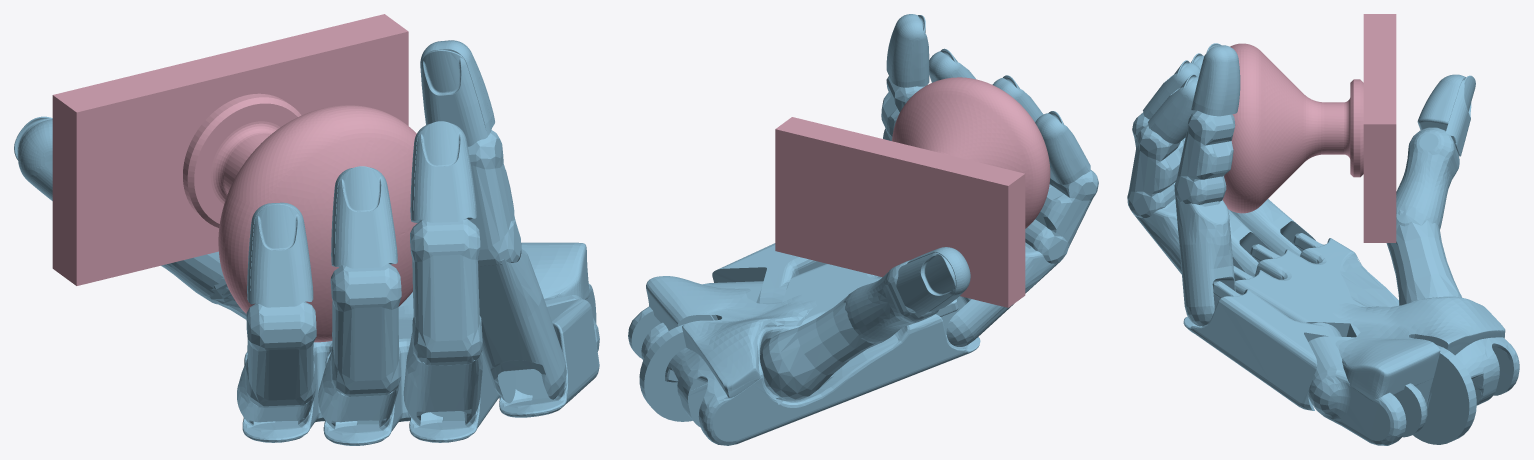
Rendered from ShadowHand_contactdb+door_knob_mesh.glb.
3 renders of one model, left to right at view 1: azimuth 30°, elevation 25°; view 2: azimuth 150°, elevation 25°; view 3: azimuth 270°, elevation 25°, orthographic. The views are drawn at different scales.
Parts seen in each view (by area): view 1: world; view 2: world; view 3: world.
Boxes of the visible parts, <box> form: world: <box>14,14,599,445</box>; world: <box>628,14,1098,445</box>; world: <box>1127,14,1519,445</box>.
Size of the model in its own units: 0.163 by 0.1439 by 0.1501.
